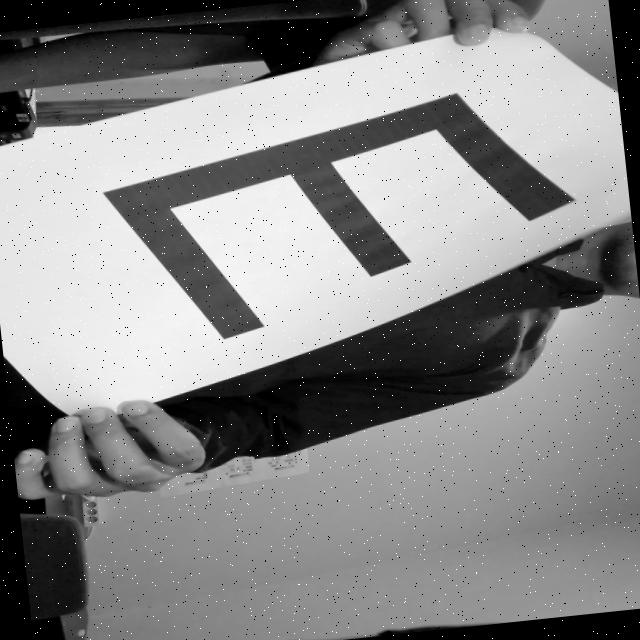e: (76, 75, 596, 364)
